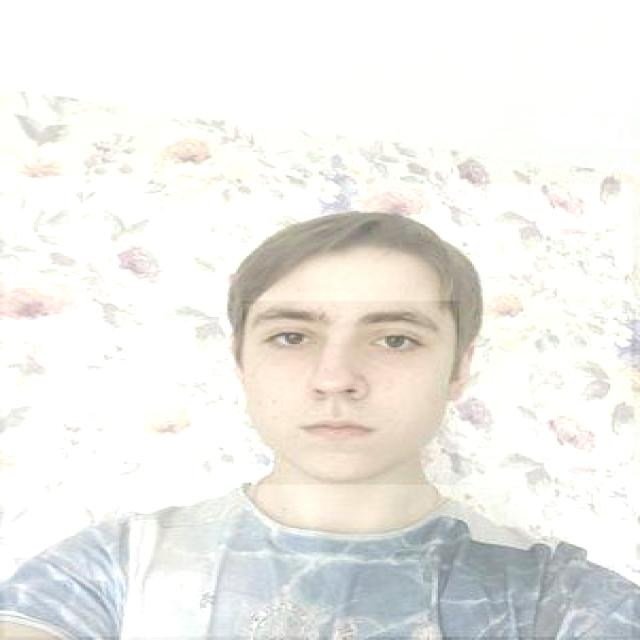face_nomask: (242, 301, 460, 485)
head_nohelmet: (230, 197, 450, 306)
person: (2, 184, 632, 638)
